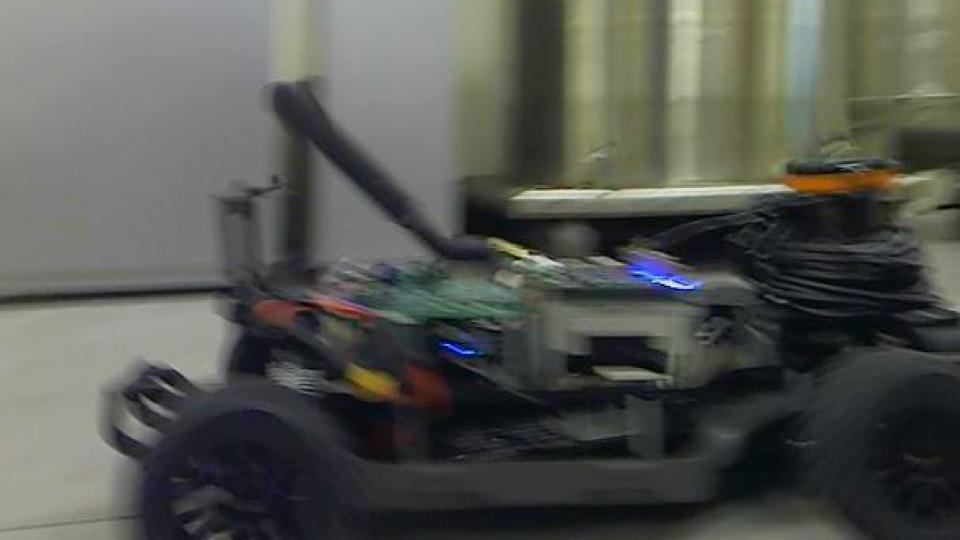car: (94, 74, 960, 540)
